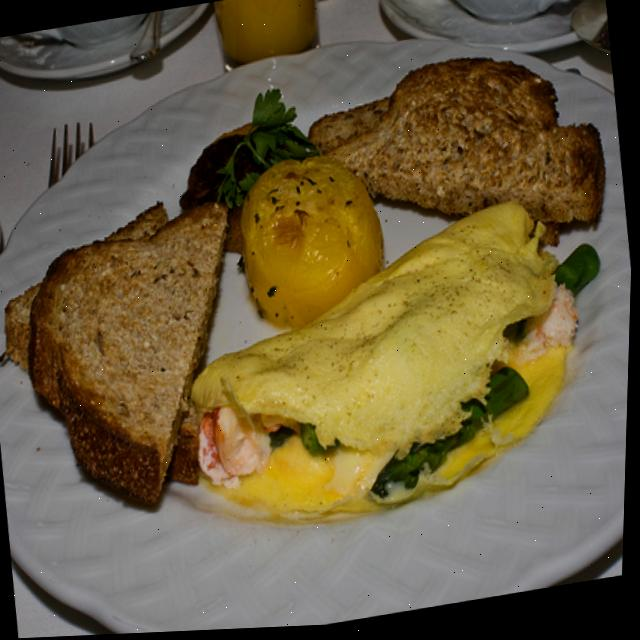鸡蛋料理: (156, 187, 635, 556)
